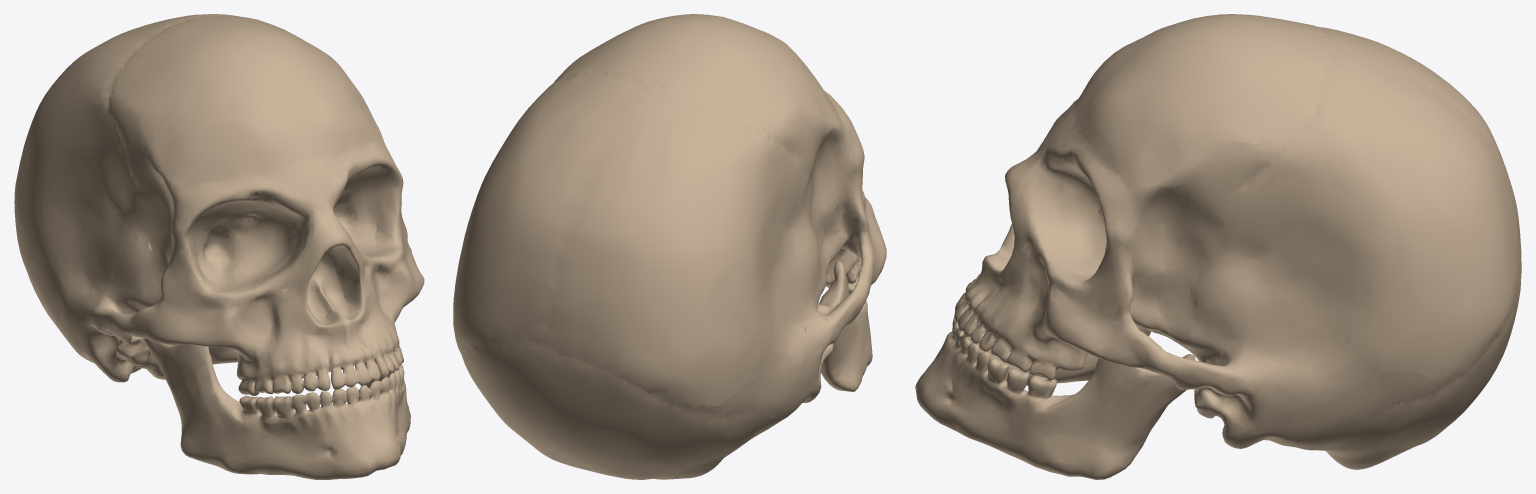
File: skull.glb
The picture shows the model from 3 angles, left to right: view 1: azimuth 30°, elevation 25°; view 2: azimuth 150°, elevation 25°; view 3: azimuth 270°, elevation 25°; orthographic projection. The views are drawn at different scales.
Parts seen in each view (by area): view 1: Skull; view 2: Skull; view 3: Skull.
Part boxes in pixels (left/top/right/bottom): Skull: left=14, top=14, right=424, bottom=479; Skull: left=453, top=14, right=886, bottom=479; Skull: left=915, top=14, right=1521, bottom=479.
Size of the model in its own units: 0.2042 by 0.2528 by 0.3394.
